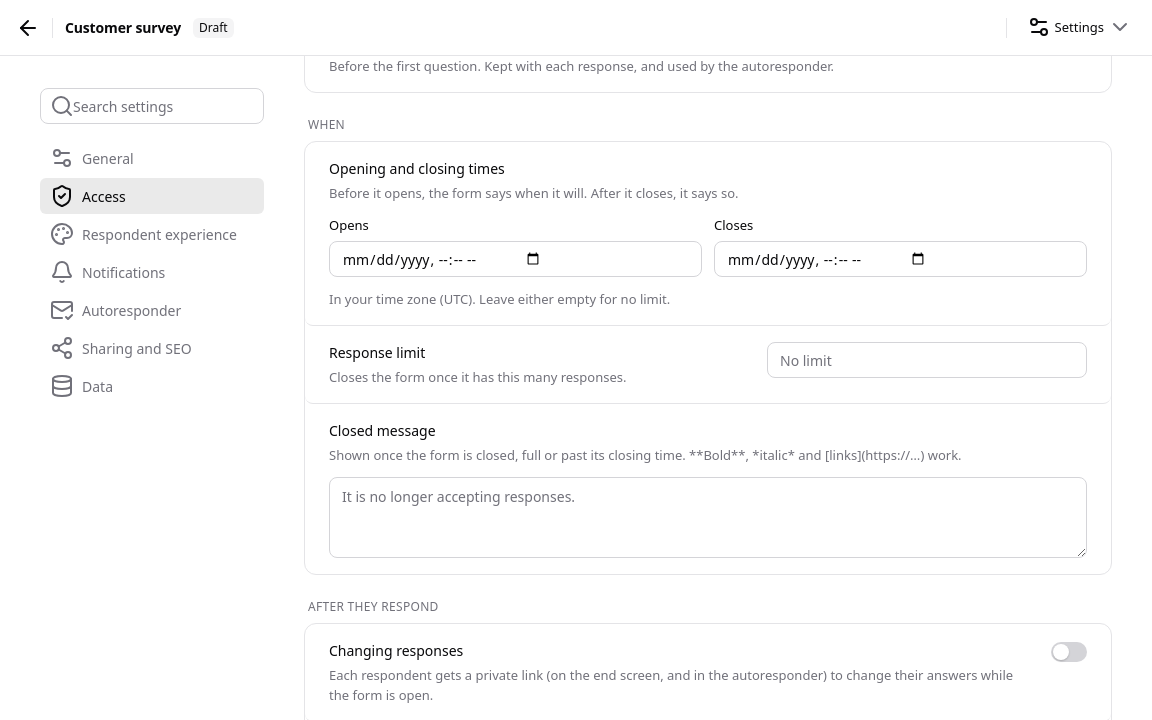
Test: FormSettingsPage › says what is wrong with a typed value, and does not save it
(page scrolled)
In the field labelled "Response limit": (927, 360) [767,342,1087,378], type "lots"
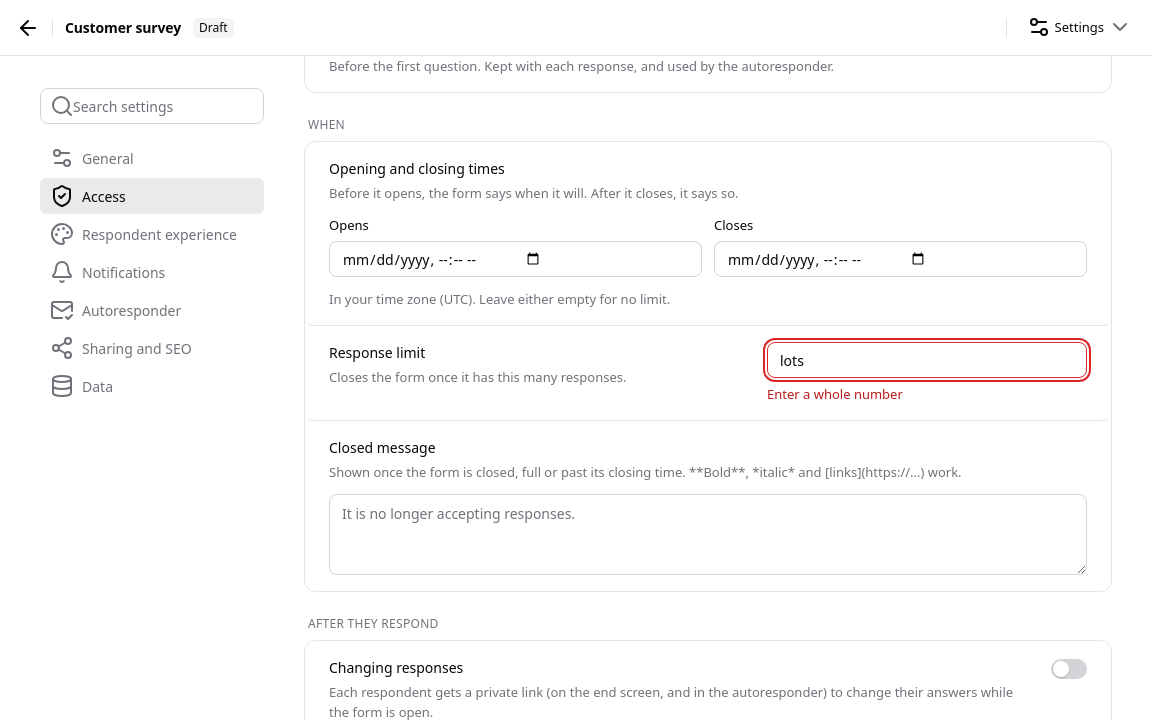
Check: the text "Enter a whole number" is shown, box [767,385,903,403]
